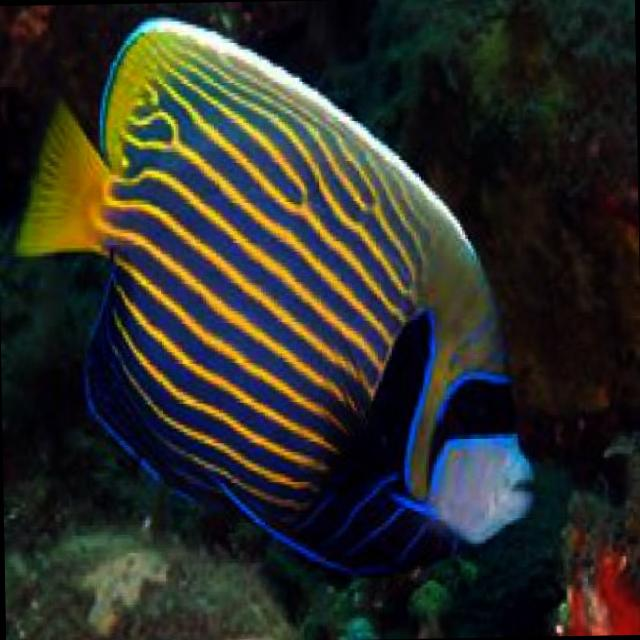AngelFish: (8, 6, 538, 586)
